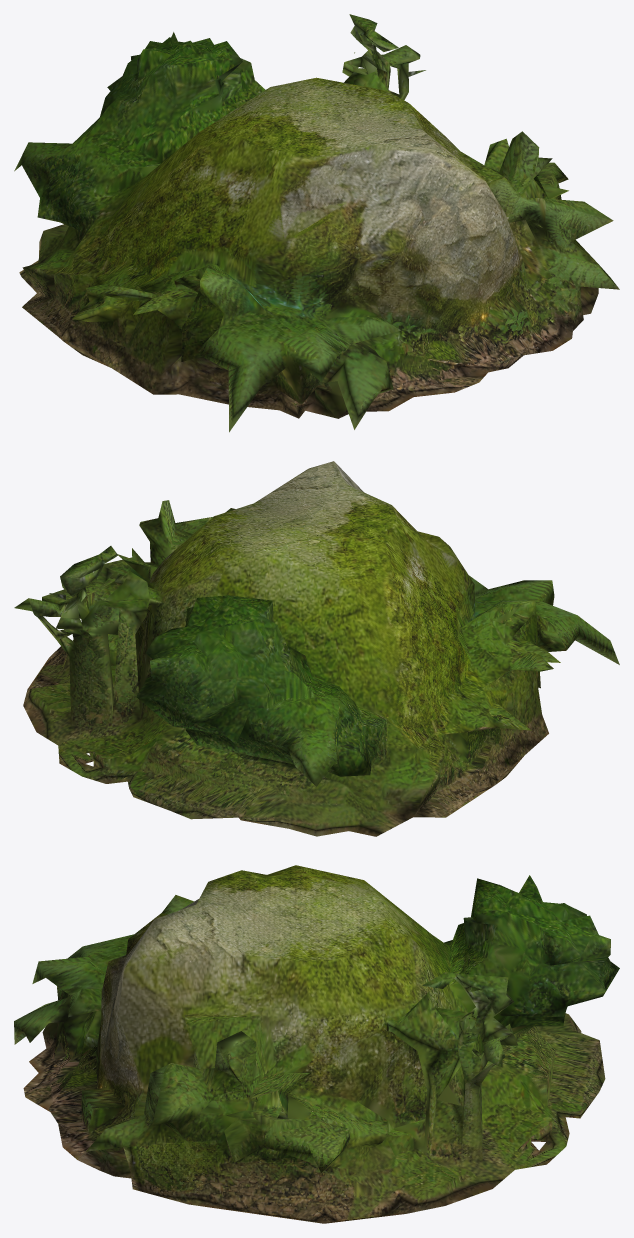
The model's file is mossy_boulder.glb.
The picture shows the model from 3 angles, top to bottom: view 1: azimuth 30°, elevation 25°; view 2: azimuth 150°, elevation 25°; view 3: azimuth 270°, elevation 25°; orthographic projection. The views are drawn at different scales.
Bounding box in the file's own units: 0.9629 × 0.3697 × 0.9857.
1 material, 1 textured.
